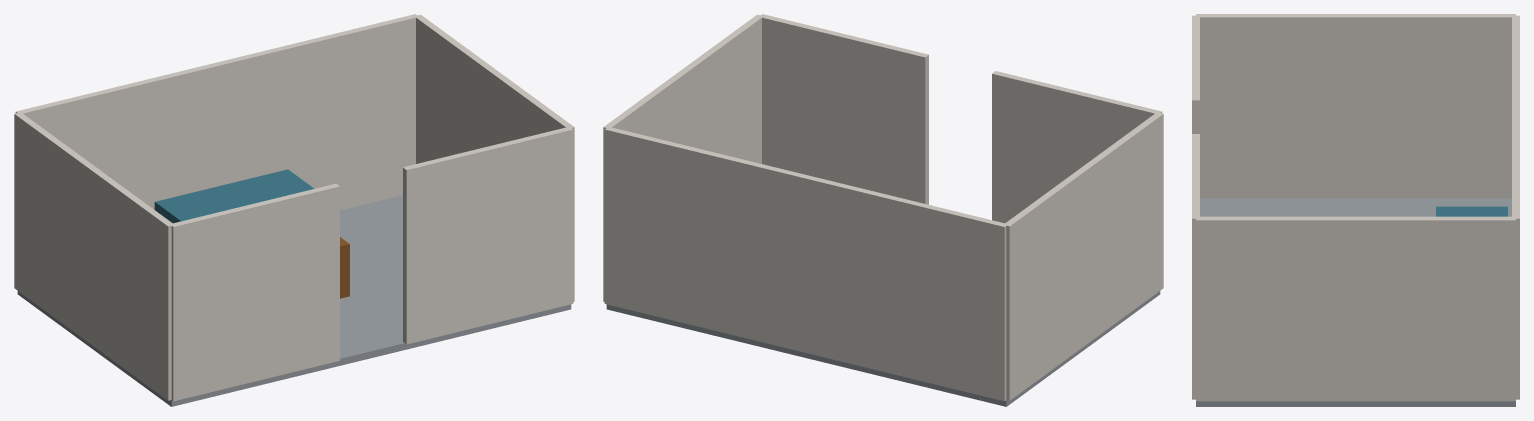
The model's file is sample-room.glb.
The picture shows the model from 3 angles, left to right: view 1: azimuth 30°, elevation 25°; view 2: azimuth 150°, elevation 25°; view 3: azimuth 270°, elevation 25°; orthographic projection. The views are drawn at different scales.
Visible parts, largest first — view 1: wall_north, wall_south_right, wall_south_left, wall_west, wall_east, floor, sofa, table; view 2: wall_north, wall_west, wall_south_right, wall_south_left, wall_east, floor; view 3: wall_east, wall_west, floor, wall_north, wall_south_right, wall_south_left, sofa.
Boxes of the visible parts, x1=… form: wall_north: x1=15, y1=14, x2=418, y2=210; wall_south_right: x1=403, y1=126, x2=573, y2=344; wall_south_left: x1=171, y1=183, x2=339, y2=401; wall_west: x1=14, y1=112, x2=174, y2=400; wall_east: x1=415, y1=14, x2=574, y2=301; floor: x1=17, y1=195, x2=571, y2=406; sofa: x1=154, y1=169, x2=314, y2=223; table: x1=340, y1=237, x2=349, y2=298; wall_north: x1=604, y1=126, x2=1007, y2=401; wall_west: x1=1005, y1=112, x2=1163, y2=400; wall_south_right: x1=759, y1=14, x2=928, y2=204; wall_south_left: x1=992, y1=71, x2=1162, y2=223; wall_east: x1=603, y1=14, x2=763, y2=301; floor: x1=606, y1=291, x2=1160, y2=406; wall_east: x1=1196, y1=216, x2=1515, y2=401; wall_west: x1=1196, y1=14, x2=1515, y2=198; floor: x1=1196, y1=198, x2=1515, y2=406; wall_north: x1=1512, y1=15, x2=1519, y2=399; wall_south_right: x1=1192, y1=134, x2=1199, y2=399; wall_south_left: x1=1192, y1=15, x2=1199, y2=133; sofa: x1=1436, y1=206, x2=1507, y2=216.
Size of the model in its own units: 6.1 by 2.6 by 4.1.
